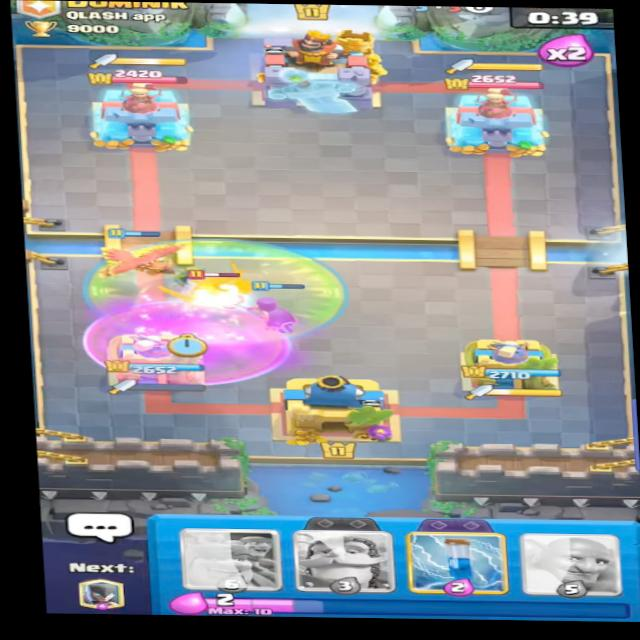pekka: (153, 259, 269, 312)
